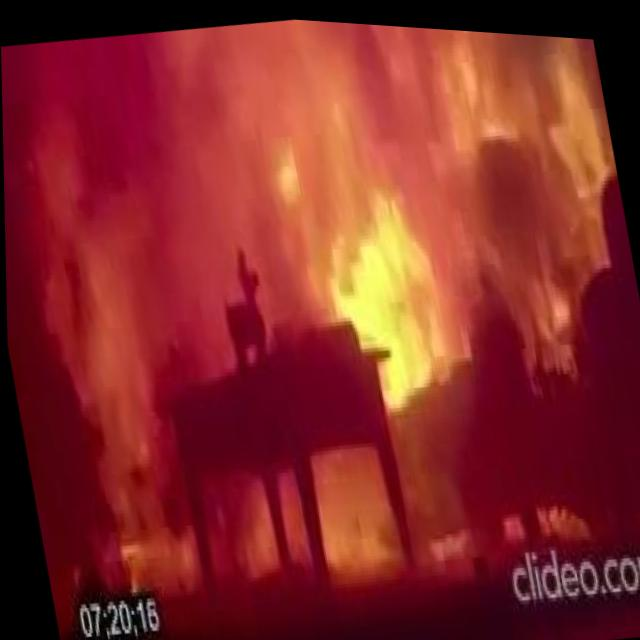fire: (18, 113, 197, 596), (326, 62, 482, 412), (225, 41, 366, 326), (404, 21, 607, 188), (492, 206, 591, 396), (388, 408, 479, 579), (311, 437, 399, 584), (203, 471, 281, 588), (533, 481, 625, 548), (273, 467, 309, 571)
